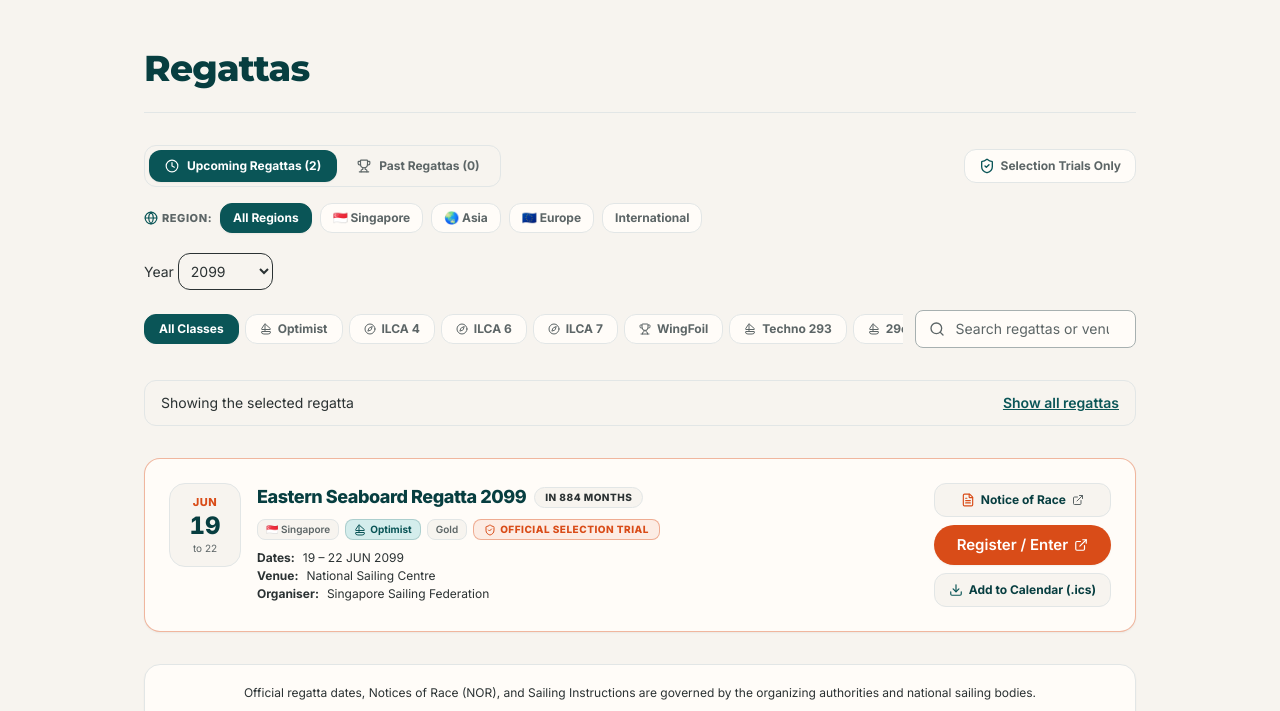
RegattaCalendarClient › resolves a workspace event identifier despite a changed display title and can clear it
The image size is (1280, 711).
Expected: the heading "Eastern Seaboard Regatta 2099" is shown, [257,483,526,511]
Expected: the text "ILCA Singapore Open 2099" is not shown
Click the button "Show all regattas" at point(1061, 403), box [1003,393,1119,413]
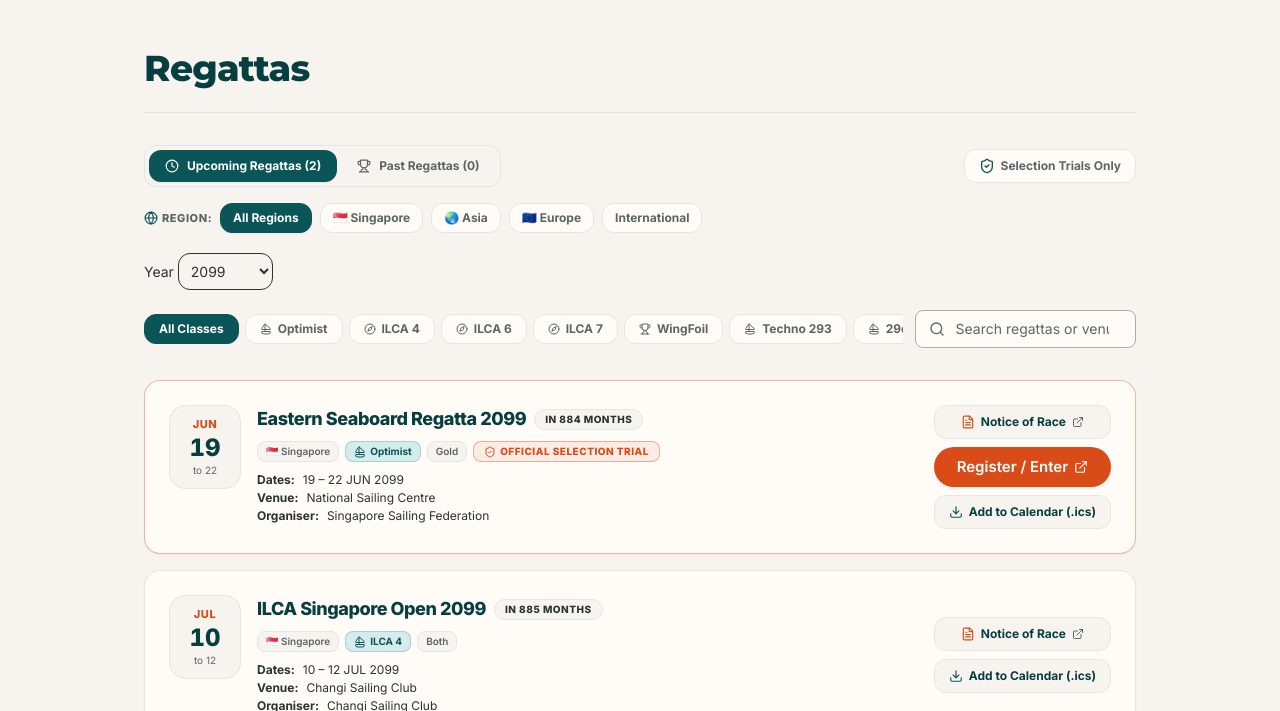
Expected: the heading "ILCA Singapore Open 2099" is shown, [257,595,486,623]
